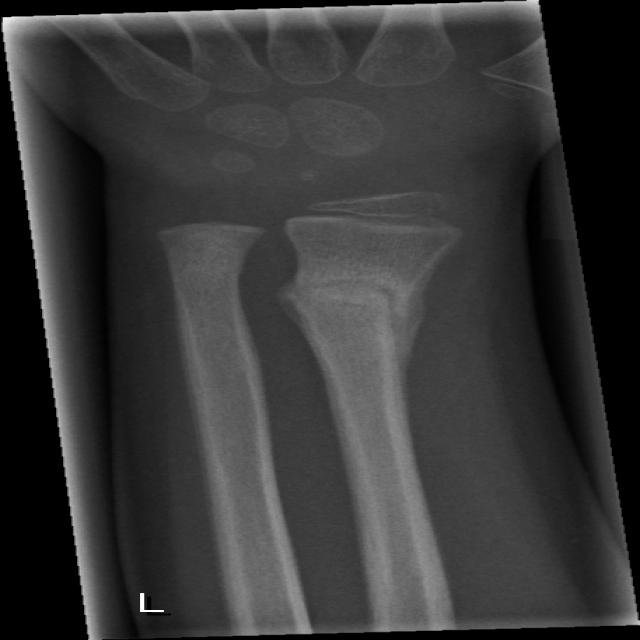radius fracture: (268, 245, 507, 420)
